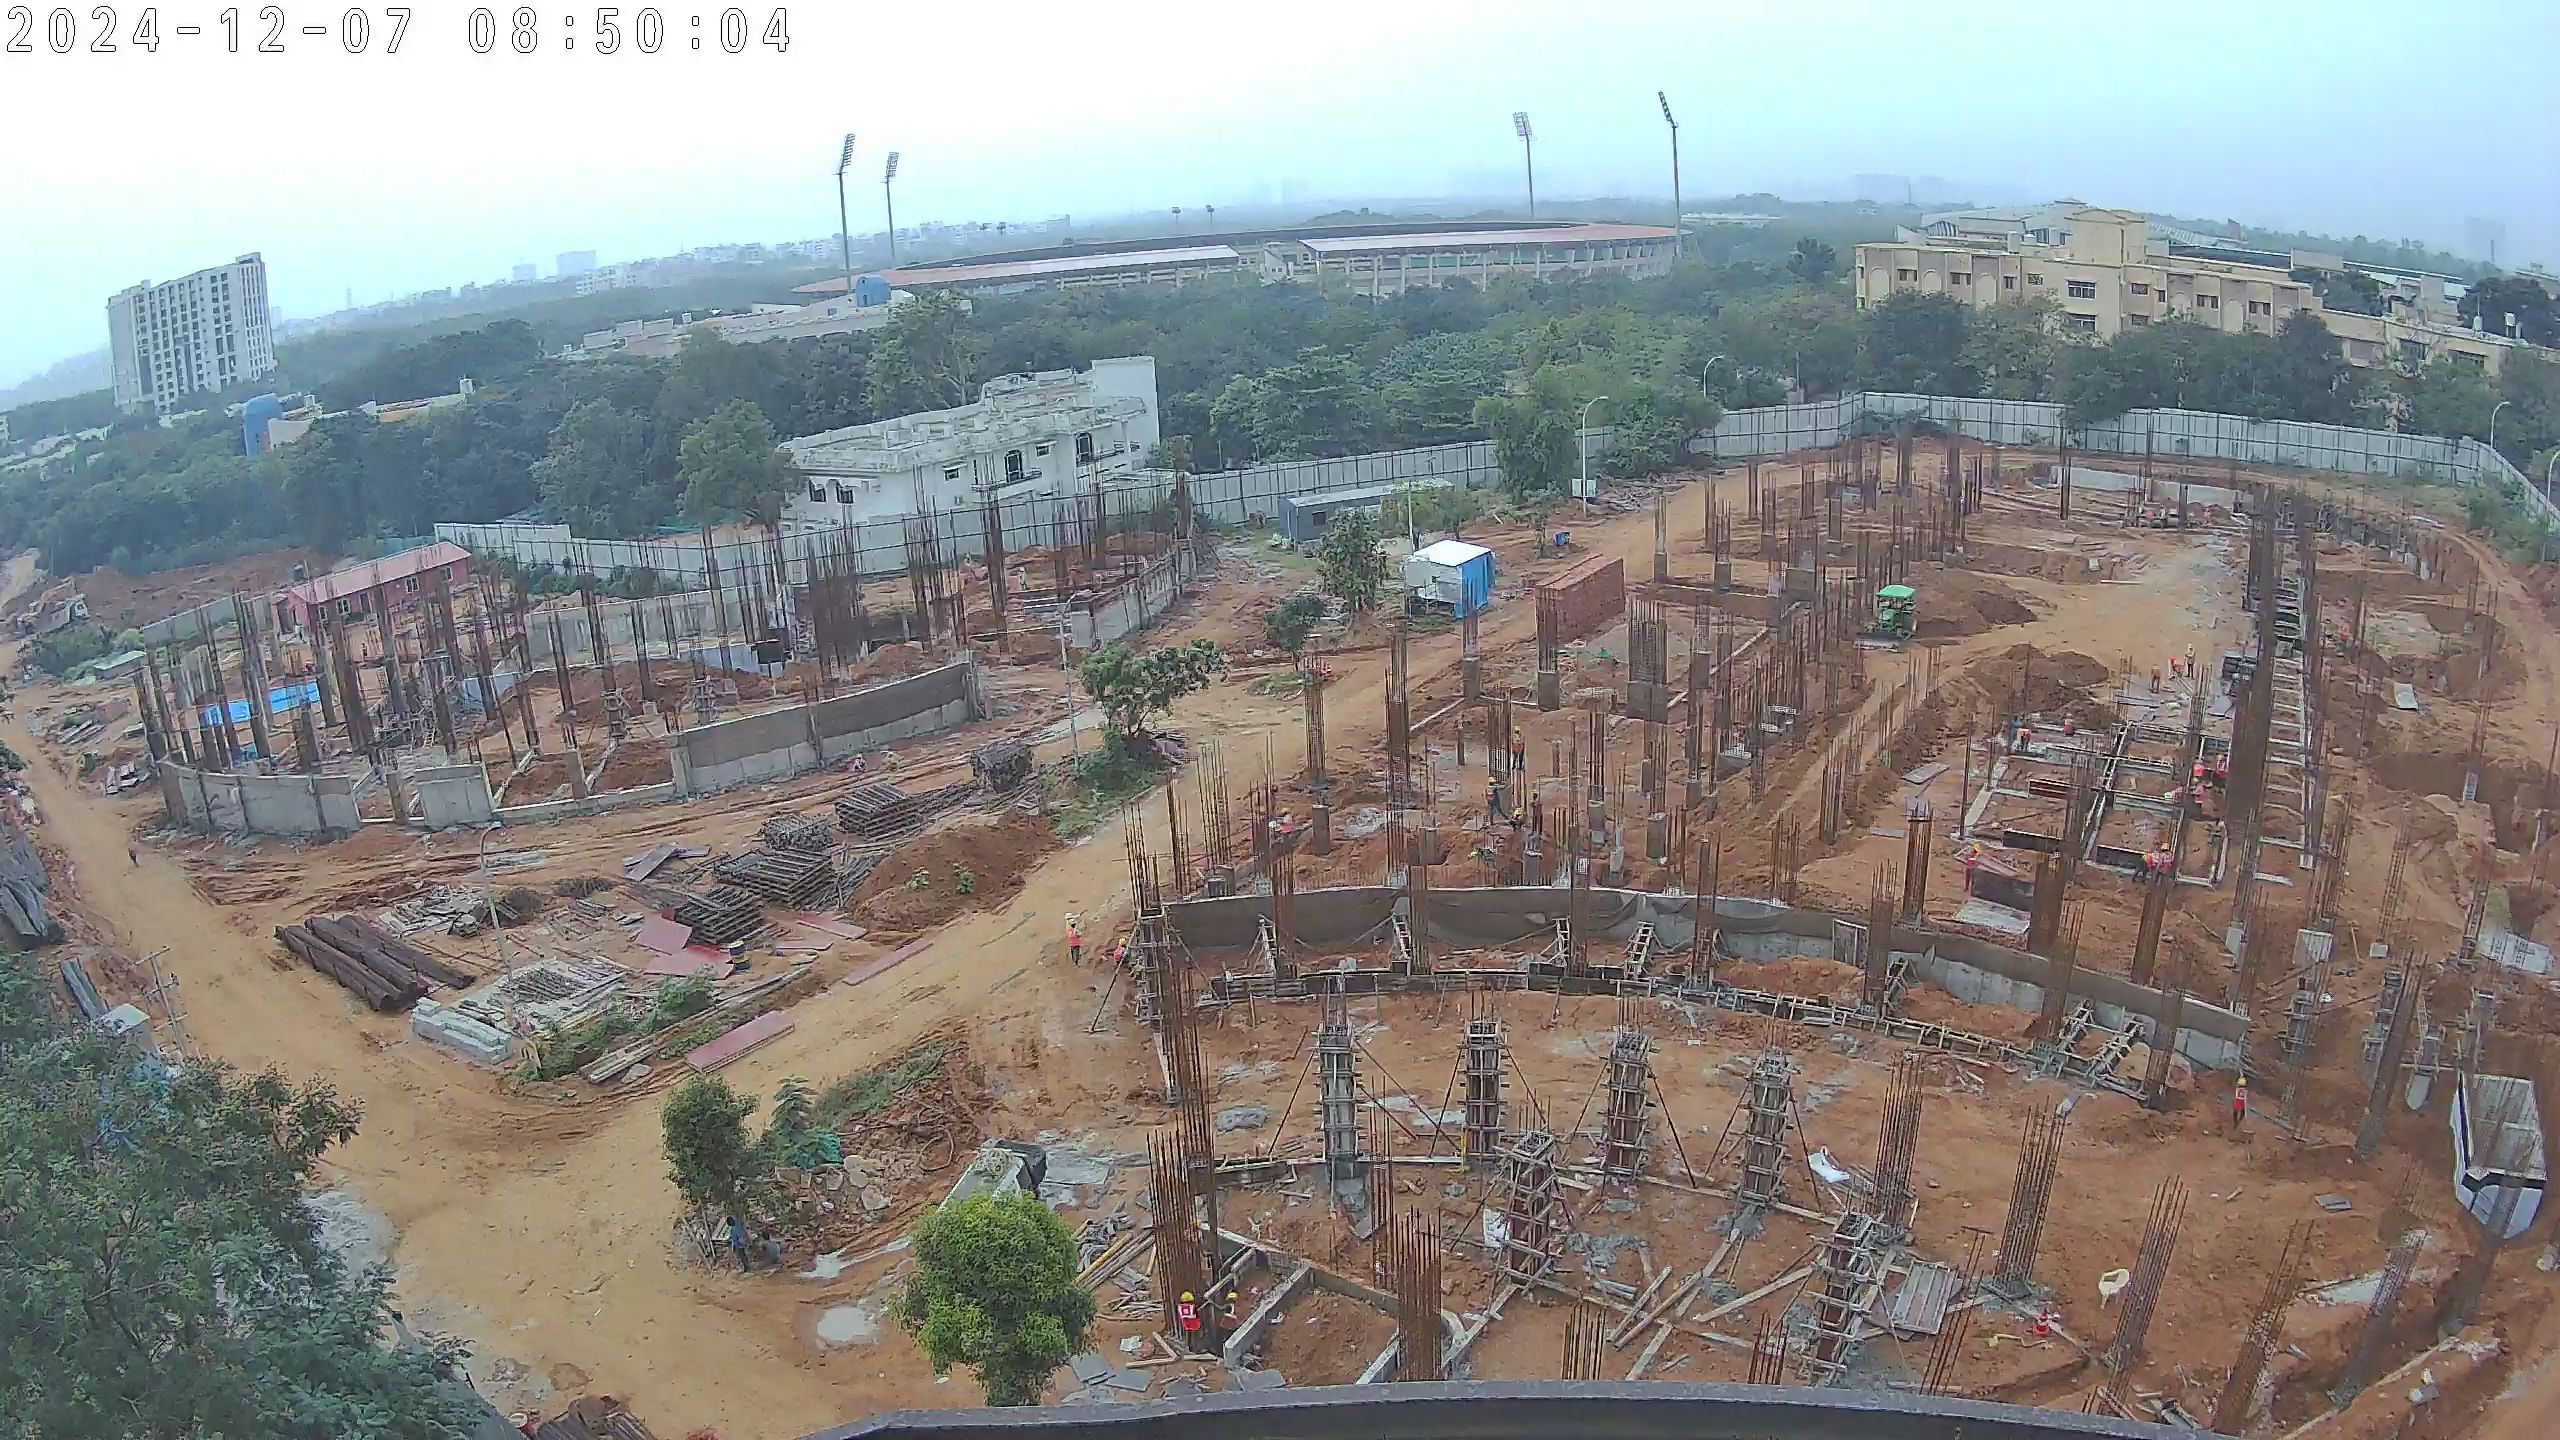bulldozer: (1852, 583, 1920, 656)
worker: (721, 1216, 758, 1280), (1479, 764, 1507, 834), (1172, 1289, 1202, 1347), (2225, 1075, 2254, 1134), (1218, 1291, 1249, 1339), (1524, 784, 1549, 842), (1959, 843, 1985, 895), (1506, 722, 1528, 778), (1276, 800, 1303, 845), (756, 1225, 783, 1269), (1062, 916, 1085, 964), (2153, 839, 2177, 884), (2130, 852, 2161, 885), (1108, 933, 1134, 971), (1505, 803, 1531, 838), (2186, 775, 2207, 818), (2212, 751, 2232, 796), (2181, 641, 2199, 685), (1011, 563, 1031, 596), (882, 749, 906, 775), (2147, 661, 2164, 696), (848, 751, 869, 778), (123, 844, 142, 870)
